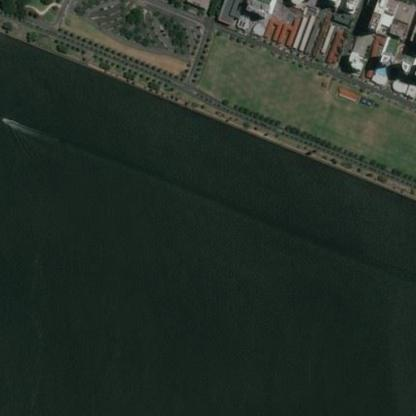ship: (0, 110, 20, 132)
